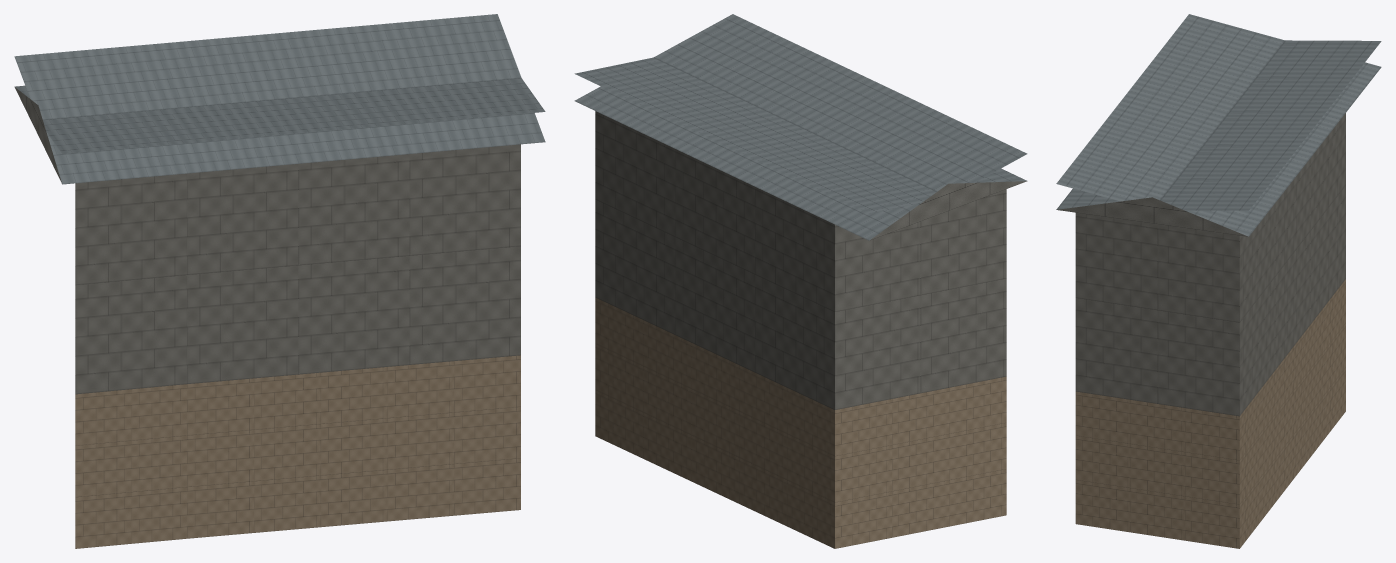
File: bld_c9_25_411.gltf
3 renders of one model, left to right at view 1: azimuth 30°, elevation 25°; view 2: azimuth 150°, elevation 25°; view 3: azimuth 270°, elevation 25°, orthographic. The views are drawn at different scales.
Visible parts, largest first — view 1: bld_c9_25_411; view 2: bld_c9_25_411; view 3: bld_c9_25_411.
Part boxes in pixels (x1,y1,x2,y2): bld_c9_25_411: (14, 14, 545, 548); bld_c9_25_411: (574, 14, 1027, 548); bld_c9_25_411: (1056, 14, 1381, 548).
Size of the model in its own units: 16.23 by 13.3 by 11.35.
Materials: 4 (4 with a texture image).
